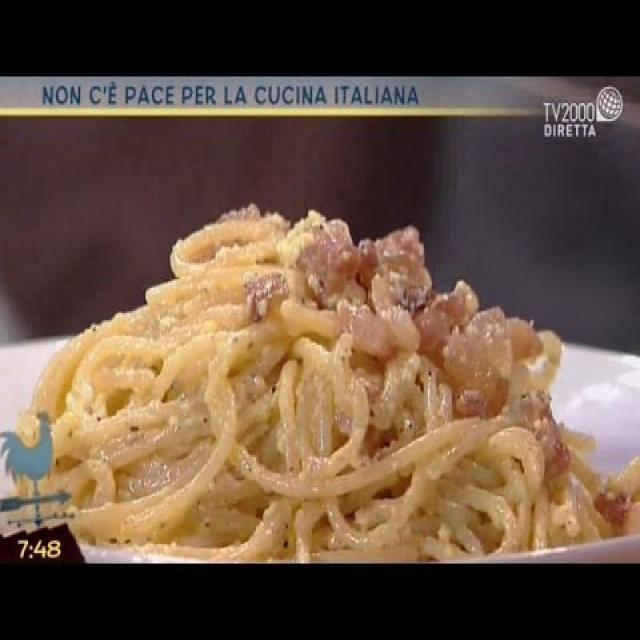Pasta with carbonara sauce: (39, 185, 621, 599)
